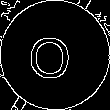O_N: (33, 29, 77, 81)
